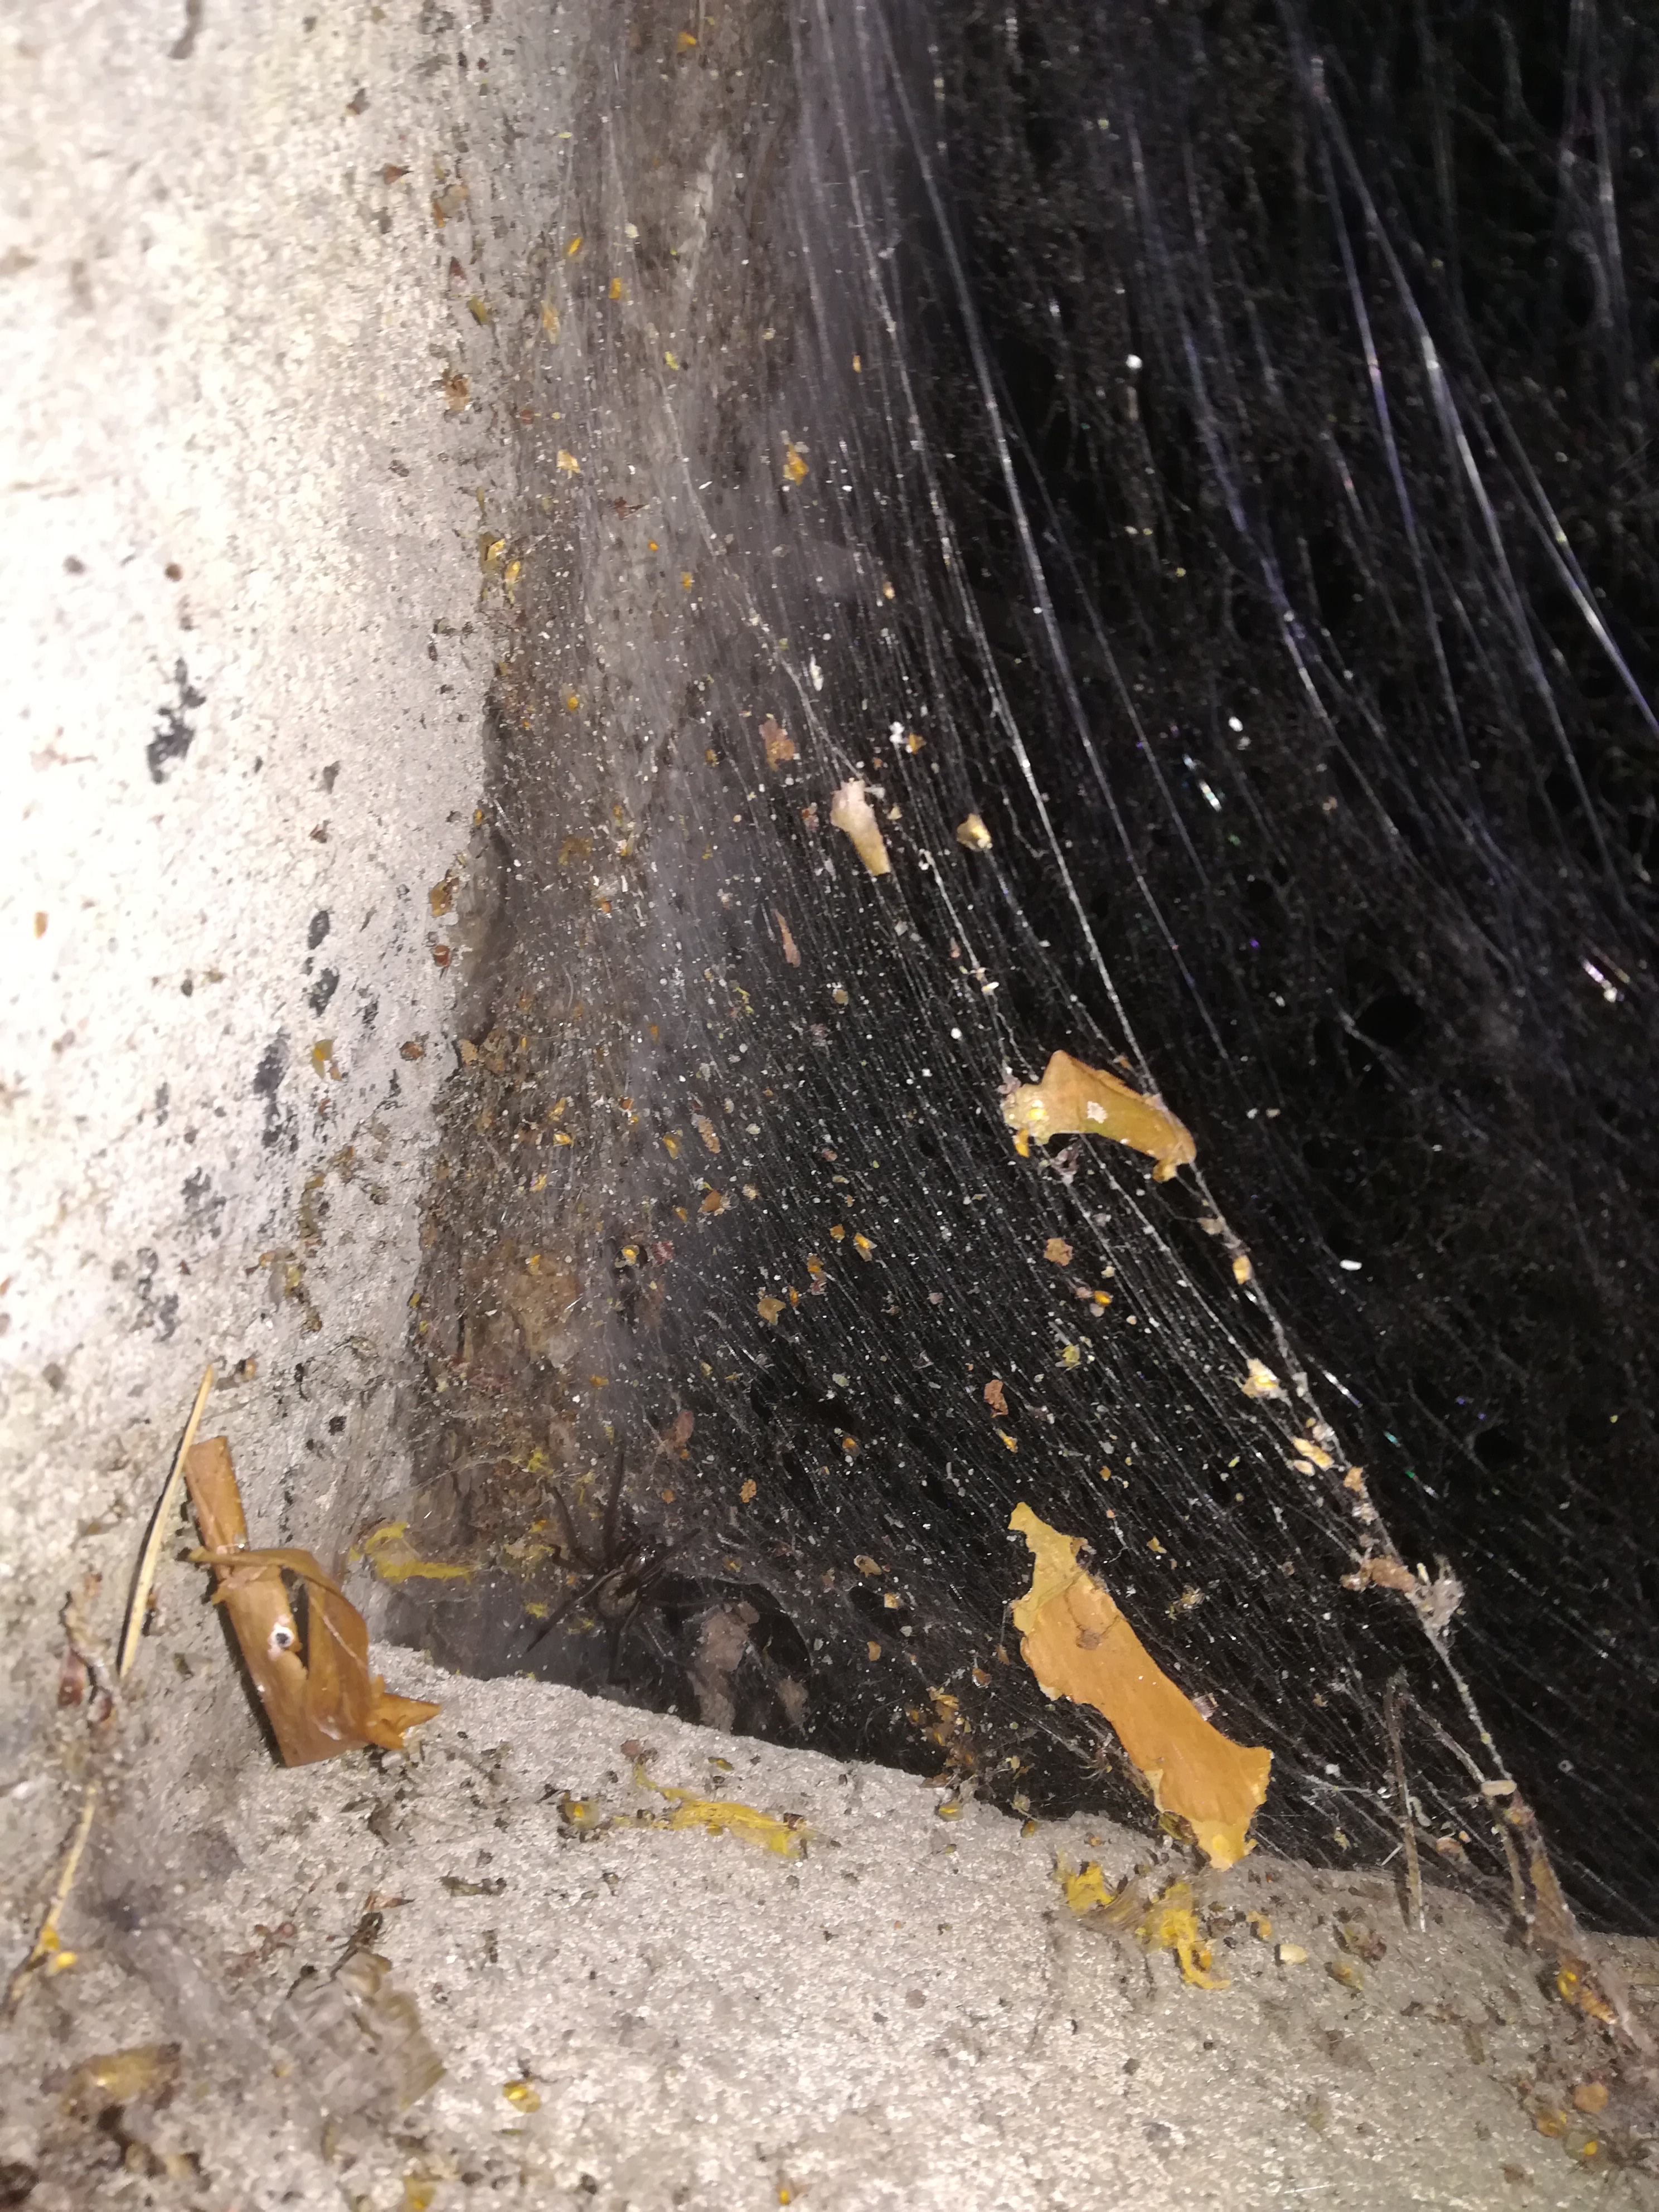spider: (490, 1423, 728, 1716)
